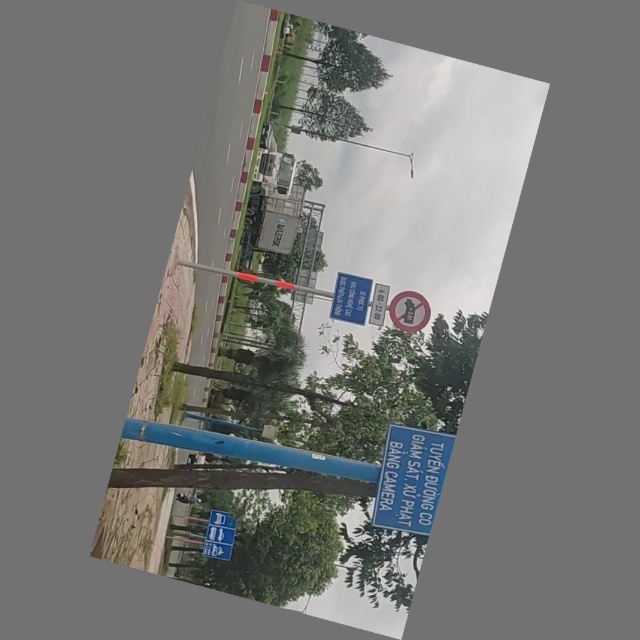P.106a*Xe tai: (385, 284, 438, 337)
